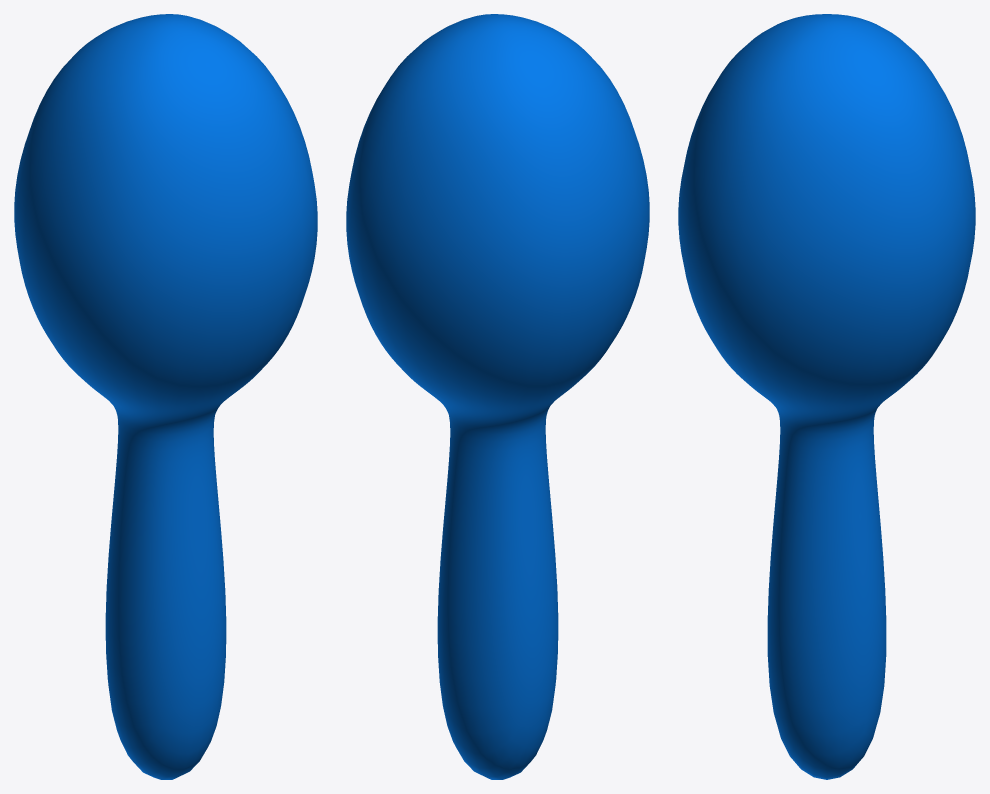
The model's file is babyrattle.fbx.
3 views of the same model, side by side, from view 1: azimuth 30°, elevation 25°; view 2: azimuth 150°, elevation 25°; view 3: azimuth 270°, elevation 25° (orthographic).
Parts seen in each view (by area): view 1: Cube; view 2: Cube; view 3: Cube.
Boxes of the visible parts, x1=… form: Cube: x1=14, y1=14, x2=317, y2=779; Cube: x1=346, y1=14, x2=649, y2=779; Cube: x1=678, y1=14, x2=975, y2=779.
Size of the model in its own units: 33.42 by 93.55 by 33.42.
